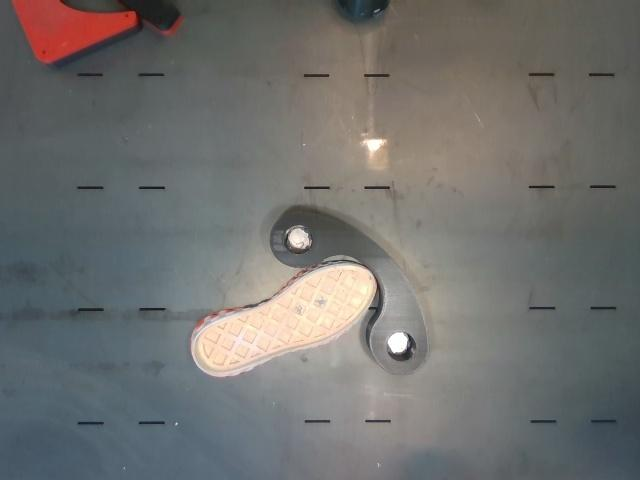shoes: (195, 266, 373, 373)
